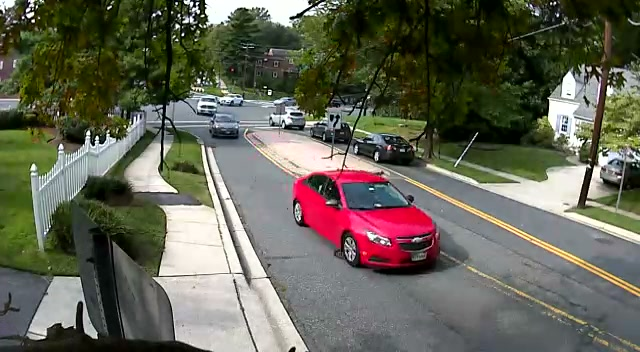car: (291, 170, 440, 271), (352, 133, 415, 165), (600, 152, 640, 189), (310, 119, 353, 143), (209, 112, 240, 138), (281, 110, 306, 130), (196, 97, 219, 117), (220, 94, 243, 107)
